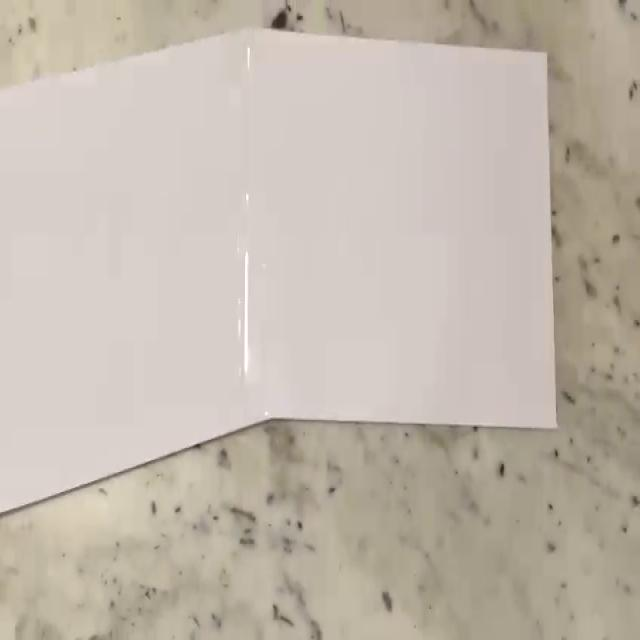road: (0, 28, 559, 513)
